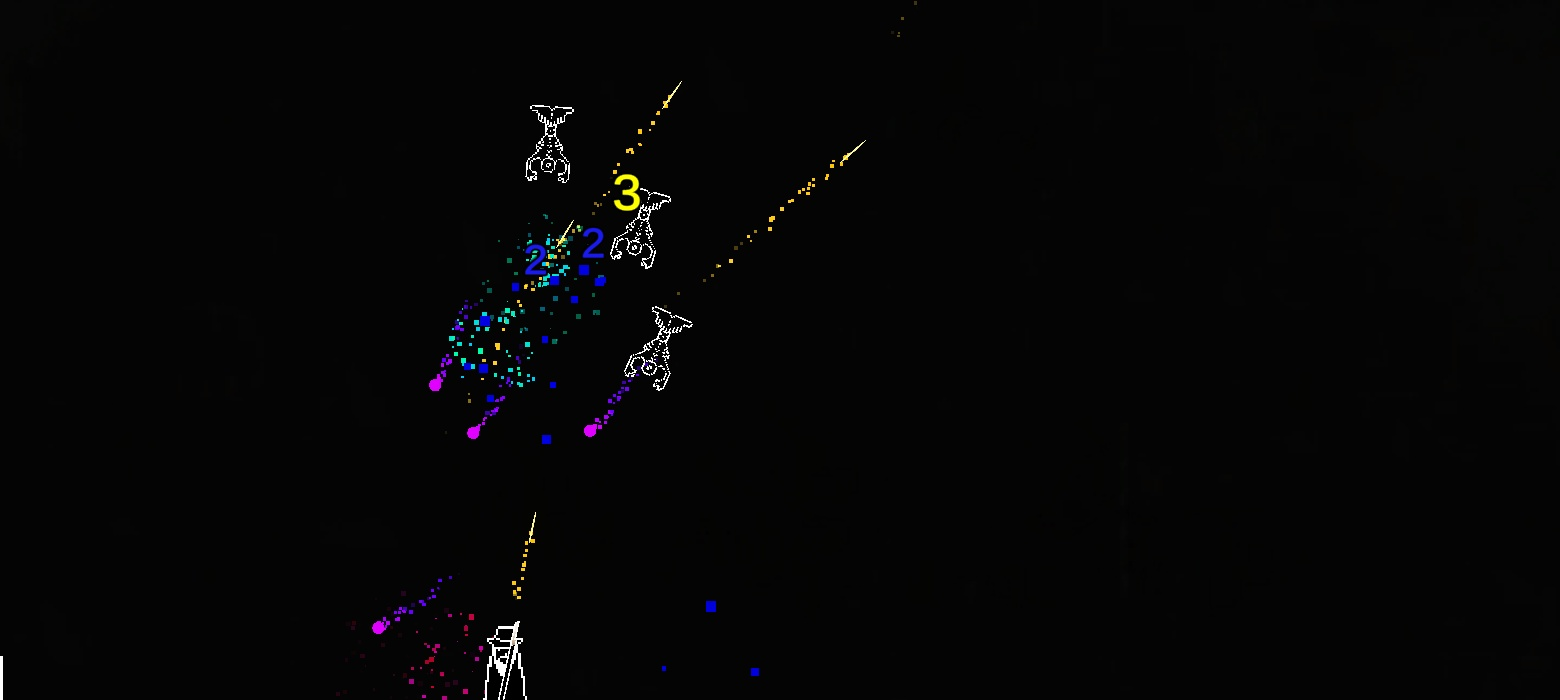enemy: (624, 306, 694, 392), (609, 184, 671, 270), (525, 105, 574, 184)
